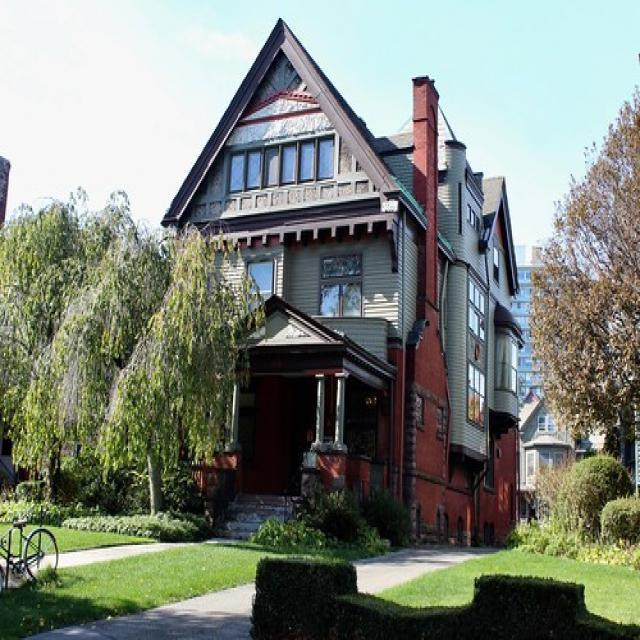Normal_building: (154, 12, 522, 550)
